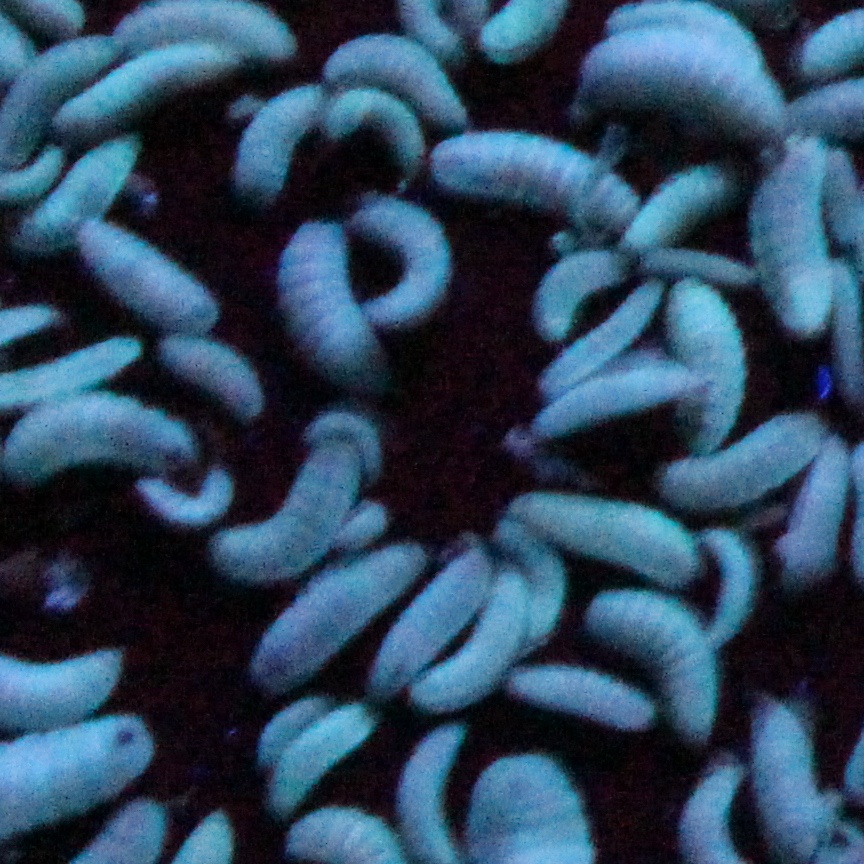larve: (593, 18, 786, 144), (248, 544, 420, 682), (217, 430, 370, 585), (265, 224, 384, 396), (436, 140, 632, 237), (510, 491, 700, 588), (614, 588, 720, 738), (5, 406, 198, 487), (754, 144, 832, 337), (63, 48, 235, 133), (358, 197, 457, 336), (1, 36, 107, 161), (17, 145, 138, 248), (741, 706, 824, 852), (103, 225, 218, 329), (540, 367, 706, 439), (670, 282, 750, 431), (336, 39, 474, 125), (219, 88, 325, 194), (658, 434, 816, 502), (268, 706, 370, 811), (114, 5, 299, 62), (776, 444, 854, 577), (380, 563, 474, 669), (4, 337, 142, 406), (330, 94, 429, 185), (636, 165, 742, 247), (163, 337, 264, 420), (517, 251, 627, 323), (520, 668, 653, 725), (475, 567, 524, 703), (702, 531, 760, 639), (141, 475, 243, 520)
